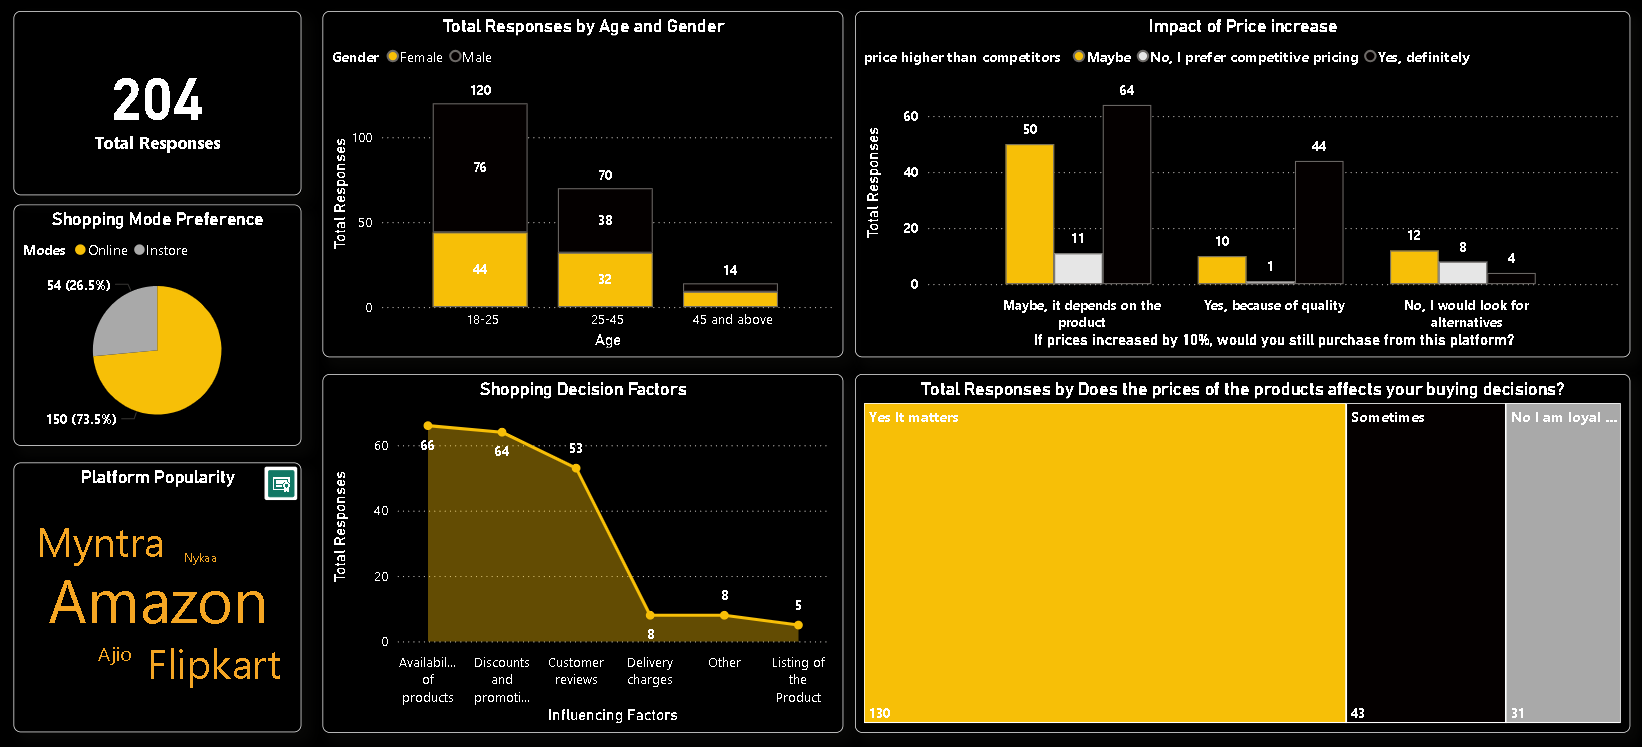

The page's visual inventory and layout, read from the dashboard file:
{"tool":"powerbi","page":{"name":"Page 1","canvas":[1582,720],"ordinal":0},"visuals":[{"type":"columnChart","fields":{"Category":["Form responses.Age"],"Series":["Form responses.Gender"],"Y":["Form responses.Total Responses"]},"box":[312.1,11.5,499,332.2],"z":0},{"type":"pieChart","title":"Shopping Mode Preference","fields":{"Category":["Form responses.What mode do you prefer for your shopping? "],"Y":["Form responses.Total Responses"]},"box":[15.8,197,276.1,231.5],"z":1000},{"type":"lineChart","title":"Shopping Decision Factors","fields":{"Category":["Form responses.What factors influence your shopping decision at your chosen platform(s)?"],"Y":["Form responses.Total Responses"]},"box":[312.1,359.5,499,343.7],"z":2000},{"type":"clusteredColumnChart","title":"Impact of Price increase ","fields":{"Category":["Form responses.If your chosen platform increased their prices by 10%, would you still consider purchasing from them? Why"],"Y":["Form responses.Total Responses"],"Series":["Form responses.If the prices were higher than competitors but they offered better customer service and exclusive product"]},"box":[822.6,11.5,743.5,332.2],"z":3000},{"type":"WordCloud5550983e166911eebe560242ac120002","title":"Platform Popularity ","fields":{"categories":["Form responses.What platform do you prefer when you shop online?"],"measure":["Form responses.Total Responses"]},"box":[15.8,444.4,276.1,258.9],"z":5000},{"type":"card","title":"No. of Responses","fields":{"Values":["Form responses.Total Responses"]},"box":[15.8,11.5,276.1,176.9],"z":6000},{"type":"treemap","fields":{"Group":["Form responses.Does the prices of the products affects your buying decisions?"],"Values":["Form responses.Total Responses"]},"box":[822.6,359.5,743.5,343.7],"z":6001}]}

Visuals, with their boxes in screenshot pixels (x1, y1, x2, y2), scaled from the page's 1582x720 canvas onto the 1642x747 screenshot:
columnChart - Form responses.Age x Form responses.Gender: bbox(324, 12, 842, 357)
"Shopping Mode Preference" pieChart: bbox(16, 204, 303, 445)
"Shopping Decision Factors" lineChart: bbox(324, 373, 842, 730)
"Impact of Price increase " clusteredColumnChart: bbox(854, 12, 1625, 357)
"Platform Popularity " WordCloud5550983e166911eebe560242ac120002: bbox(16, 461, 303, 730)
"No. of Responses" card: bbox(16, 12, 303, 195)
treemap - Form responses.Does the prices of the products affects your buying decisions? x Form responses.Total Responses: bbox(854, 373, 1625, 730)
